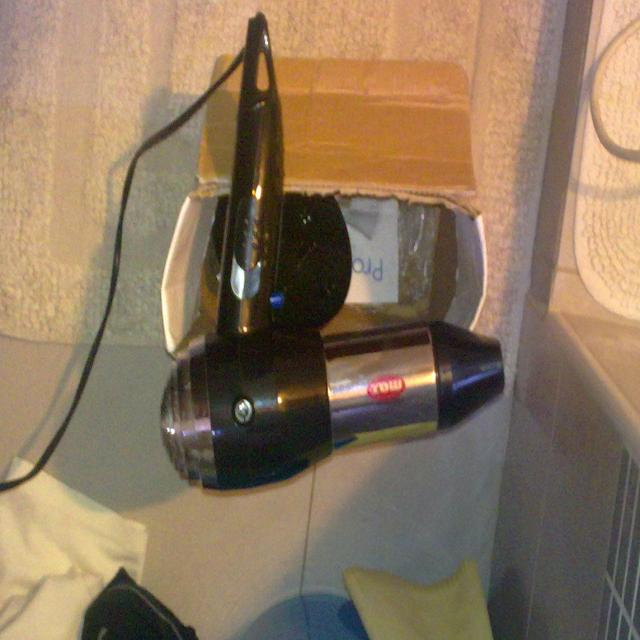dryer: (156, 11, 508, 497)
